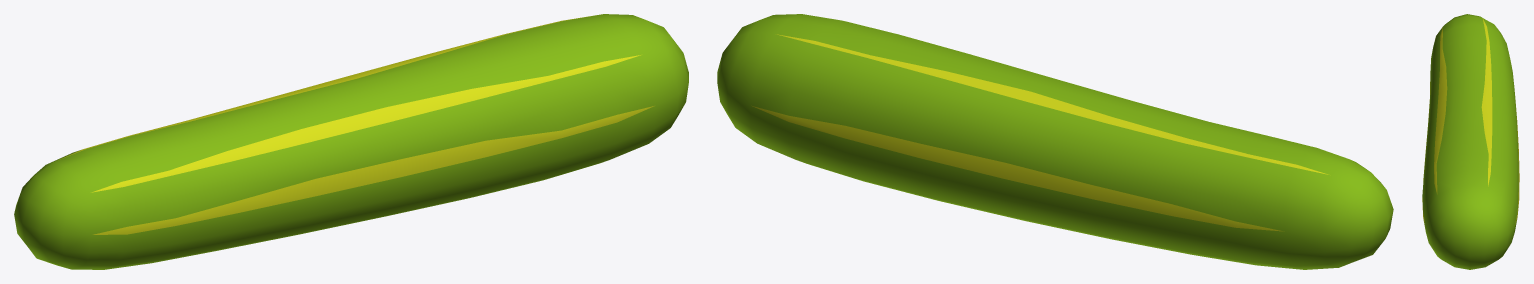
File: quaternius-sushi-restaurant-foodingredient-cucumber.glb
The picture shows the model from 3 angles, left to right: view 1: azimuth 30°, elevation 25°; view 2: azimuth 150°, elevation 25°; view 3: azimuth 270°, elevation 25°; orthographic projection. The views are drawn at different scales.
Visible parts, largest first — view 1: FoodIngredient_Cucumber; view 2: FoodIngredient_Cucumber; view 3: FoodIngredient_Cucumber.
Part boxes in pixels (x1=…): FoodIngredient_Cucumber: x1=14, y1=14, x2=688, y2=269; FoodIngredient_Cucumber: x1=717, y1=14, x2=1393, y2=269; FoodIngredient_Cucumber: x1=1422, y1=14, x2=1519, y2=269.
Size of the model in its own units: 1.64 by 0.3243 by 0.3213.
Materials: 1 (1 with a texture image).
